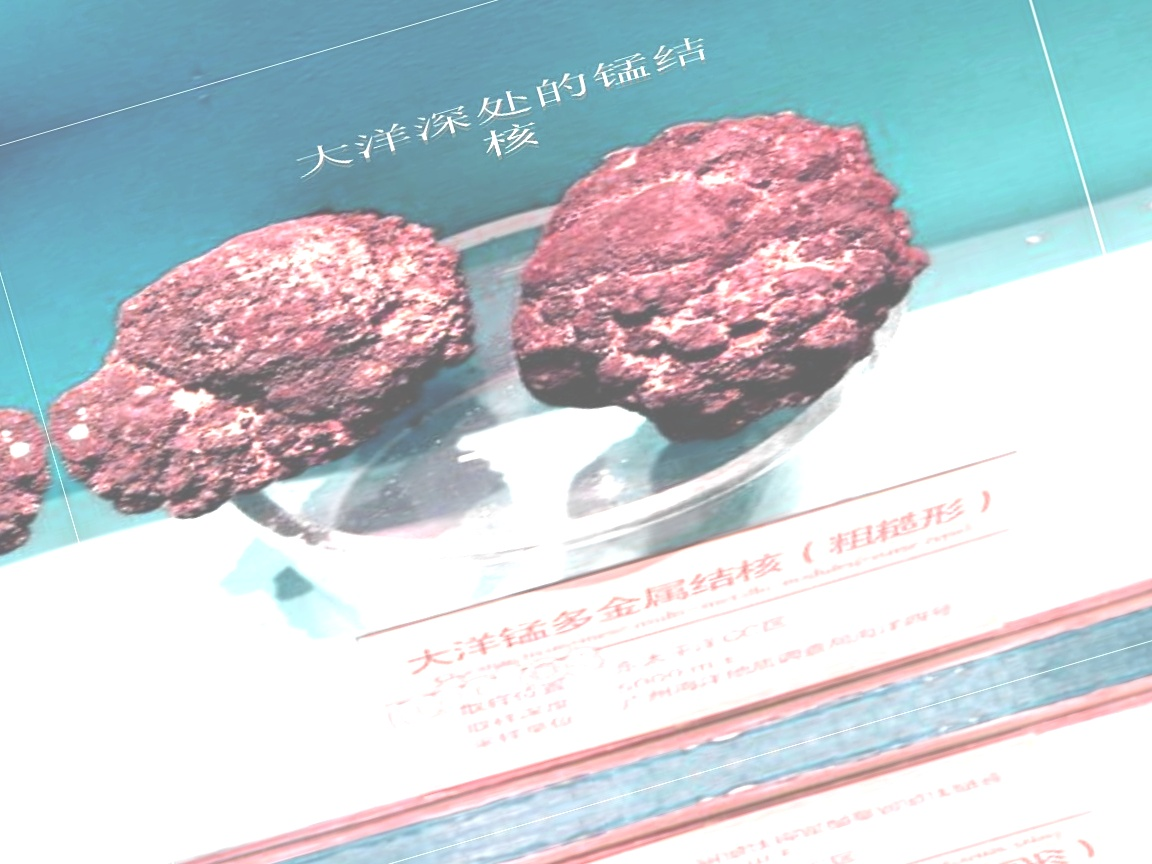halobolite: (37, 160, 543, 545), (511, 121, 973, 474)
